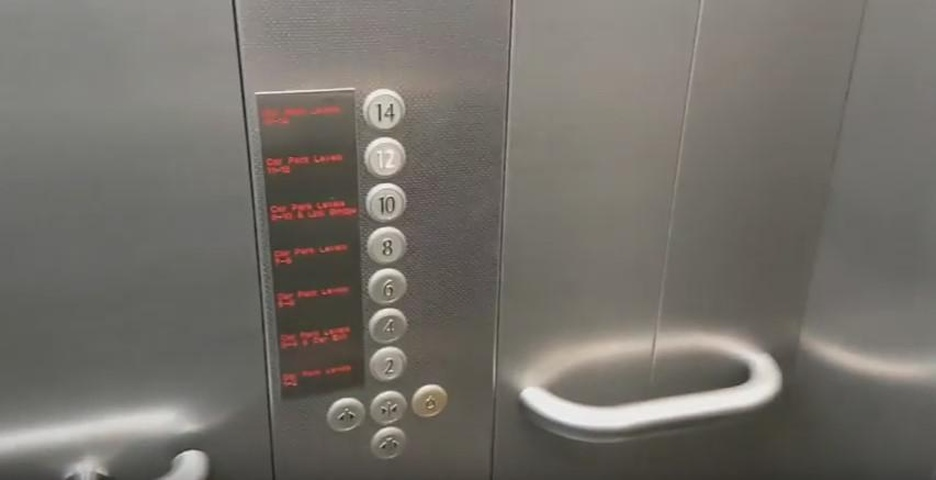10: (364, 182, 407, 223)
12: (364, 137, 406, 178)
14: (363, 89, 404, 129)
2: (370, 346, 408, 383)
4: (369, 307, 408, 344)
6: (366, 267, 408, 305)
8: (365, 225, 407, 266)
alarm: (409, 383, 448, 418)
close: (368, 388, 408, 426)
open: (326, 396, 366, 431), (371, 427, 406, 460)
